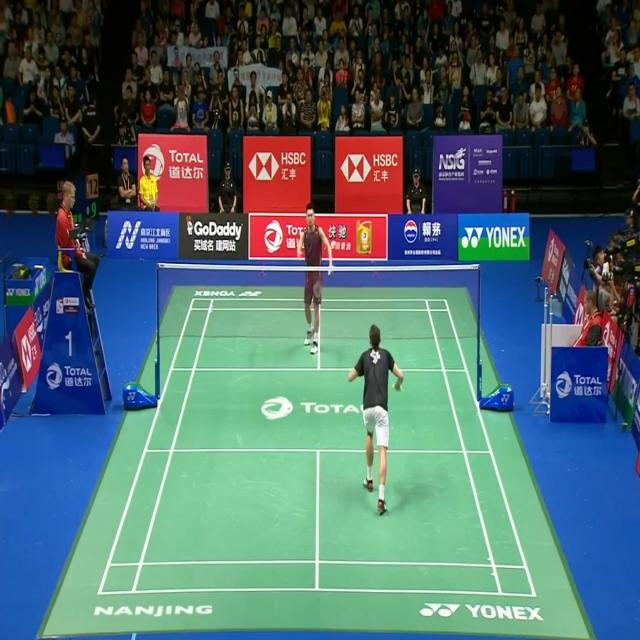Player1: (346, 320, 406, 517)
Player2: (294, 196, 338, 362)
